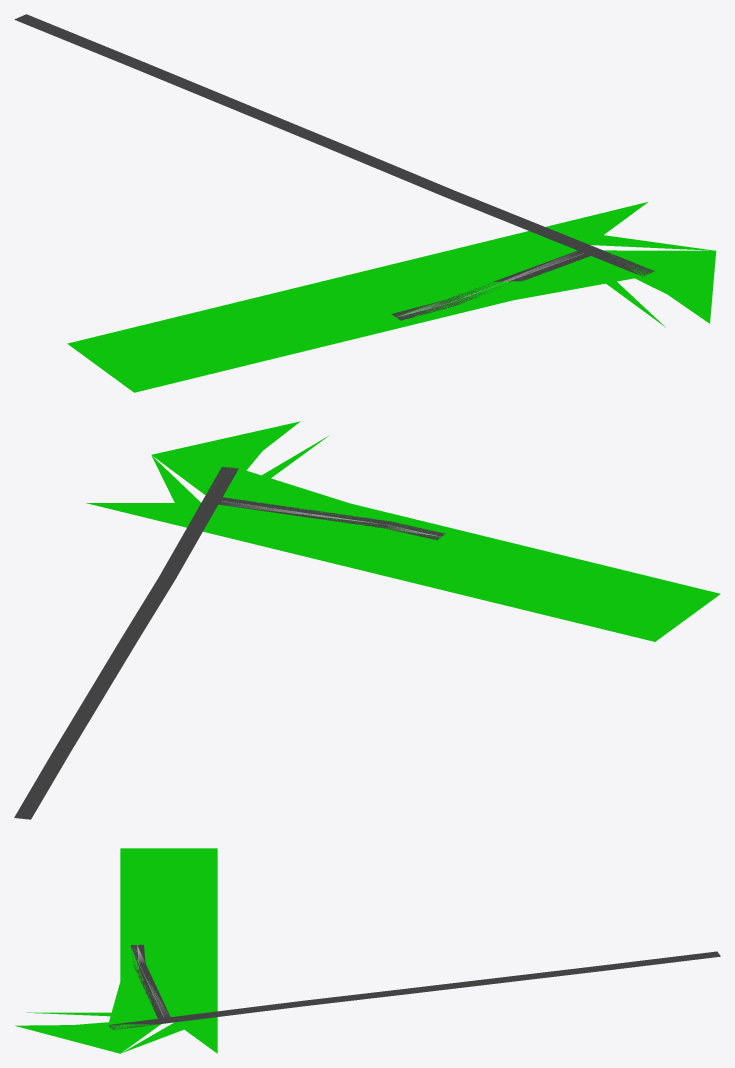
3 views of the same model, one above another, from view 1: azimuth 30°, elevation 25°; view 2: azimuth 150°, elevation 25°; view 3: azimuth 270°, elevation 25° (orthographic). The views are drawn at different scales.
Bounding box in the file's own units: 150 × 0.001 × 218.
